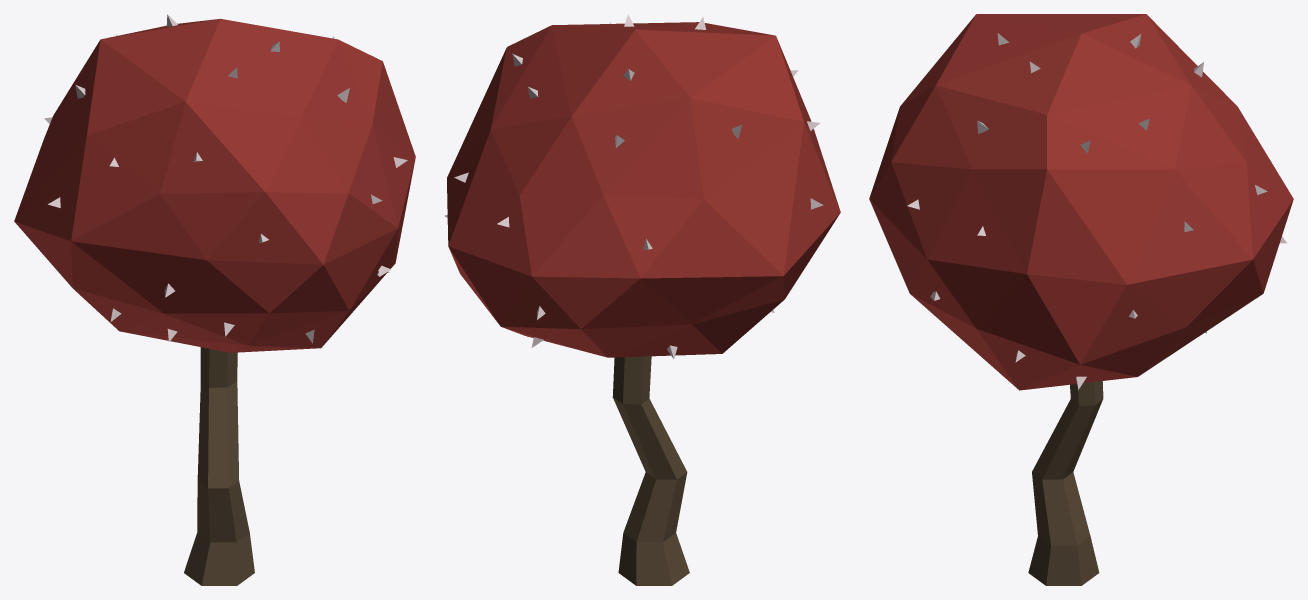
Rendered from Tree_4_Red.fbx.
3 views of the same model, side by side, from view 1: azimuth 30°, elevation 25°; view 2: azimuth 150°, elevation 25°; view 3: azimuth 270°, elevation 25° (orthographic).
Visible parts, largest first — view 1: Tree_4_Red_Part_2, Tree_4_Red_Part_1, Tree_4_Red_Part_3; view 2: Tree_4_Red_Part_2, Tree_4_Red_Part_1, Tree_4_Red_Part_3; view 3: Tree_4_Red_Part_2, Tree_4_Red_Part_1, Tree_4_Red_Part_3.
Part boxes in pixels (left/top/right/bottom): Tree_4_Red_Part_2: left=14, top=18, right=415, bottom=352; Tree_4_Red_Part_1: left=184, top=347, right=254, bottom=585; Tree_4_Red_Part_3: left=44, top=14, right=407, bottom=343; Tree_4_Red_Part_2: left=447, top=22, right=840, bottom=357; Tree_4_Red_Part_1: left=612, top=356, right=689, bottom=585; Tree_4_Red_Part_3: left=444, top=14, right=823, bottom=358; Tree_4_Red_Part_2: left=869, top=14, right=1293, bottom=390; Tree_4_Red_Part_1: left=1028, top=381, right=1103, bottom=585; Tree_4_Red_Part_3: left=907, top=33, right=1286, bottom=389.
Size of the model in its own units: 339 by 507 by 358.
